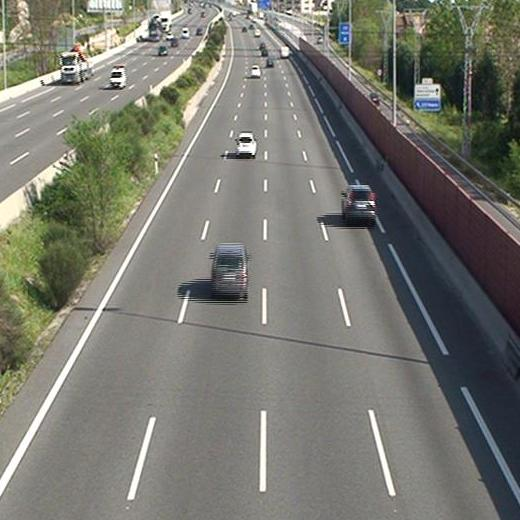car: (211, 245, 247, 295), (342, 187, 376, 221), (236, 132, 258, 155), (249, 64, 261, 78)
van: (279, 45, 290, 58)
